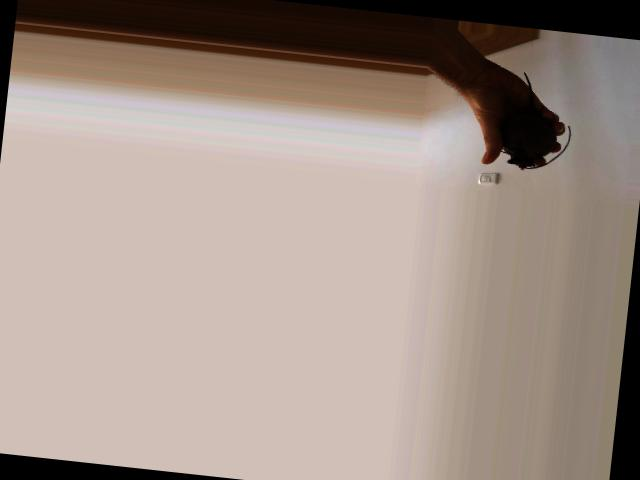beet: (499, 70, 578, 174)
